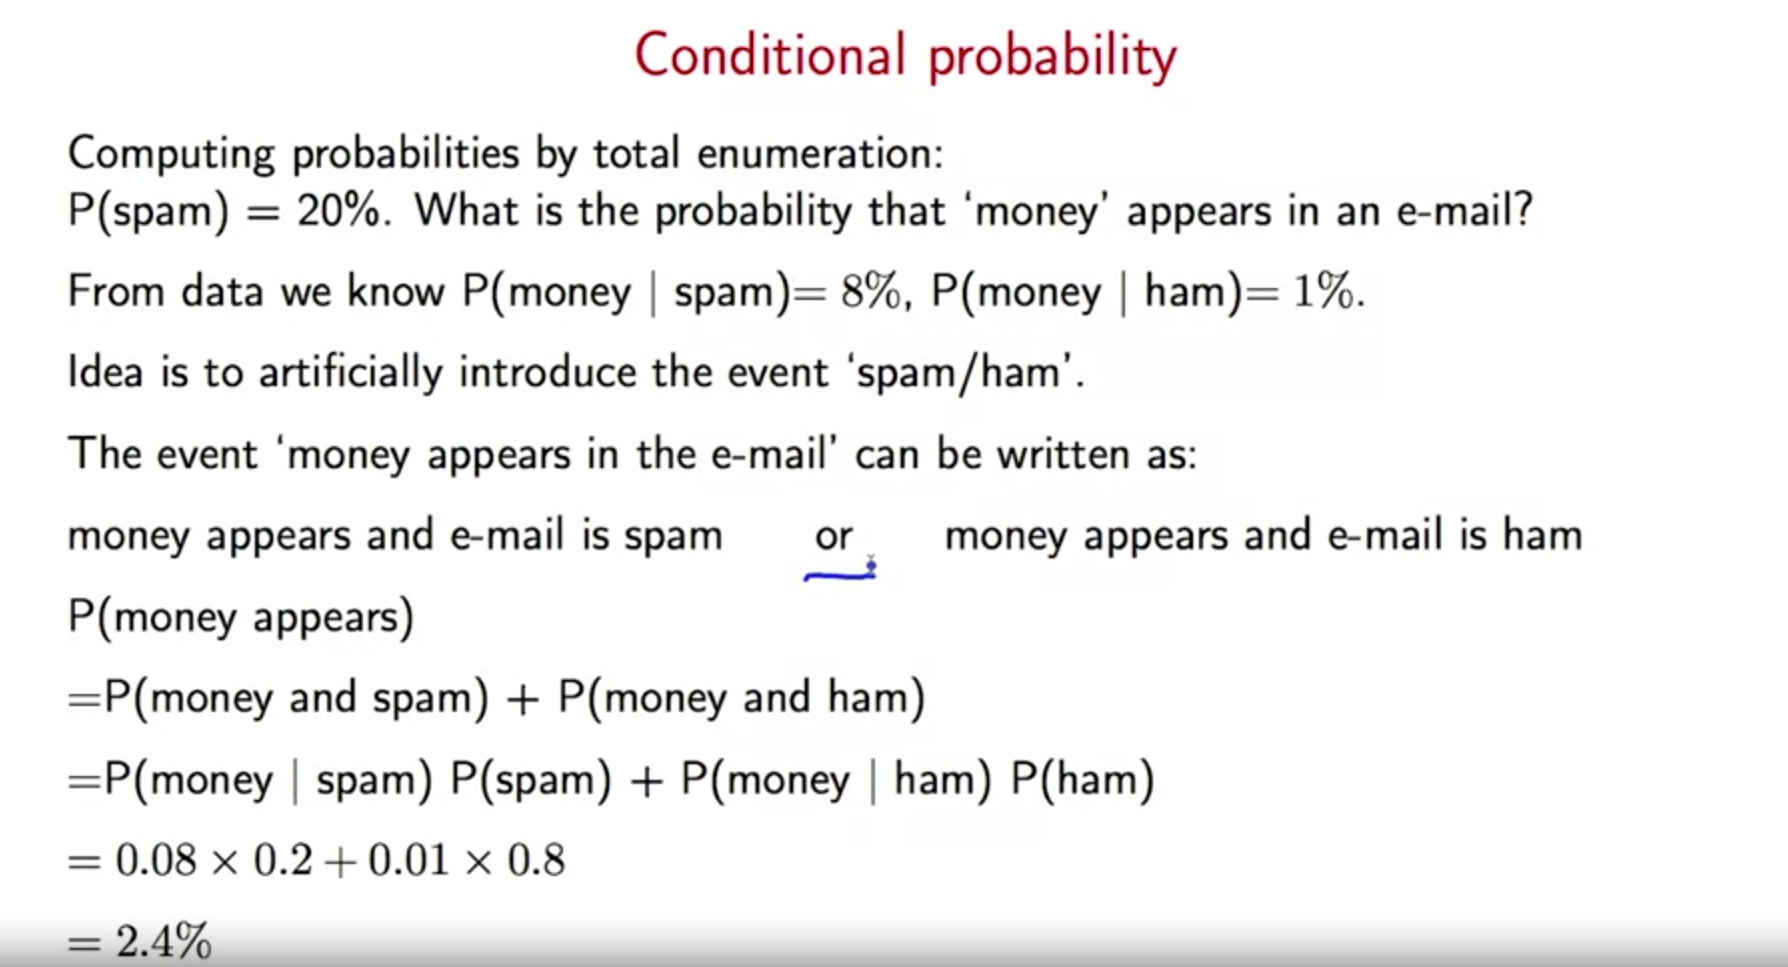equation: (65, 588, 1155, 967), (461, 270, 904, 316), (929, 268, 1356, 314), (71, 188, 382, 241)
text: (406, 183, 1545, 237), (64, 344, 1087, 403), (68, 429, 1194, 480), (64, 129, 948, 181), (629, 25, 1181, 91), (61, 514, 724, 559), (942, 514, 1587, 557), (60, 267, 454, 316), (811, 519, 854, 553)
